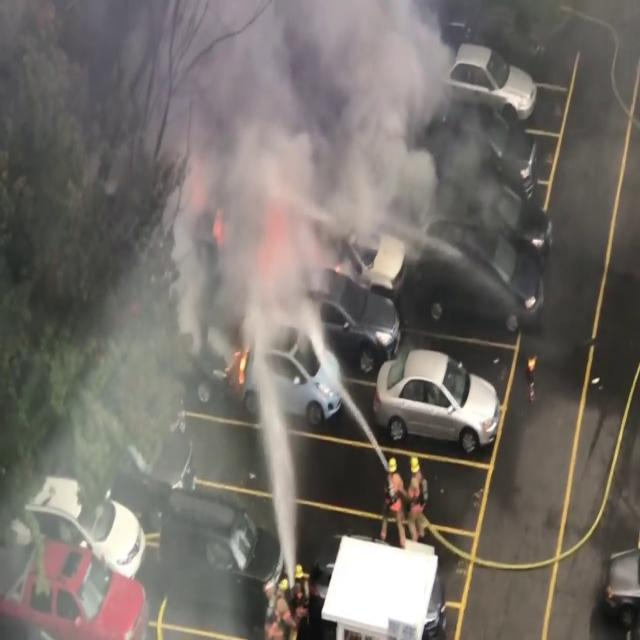Smoke: (174, 0, 516, 356)
